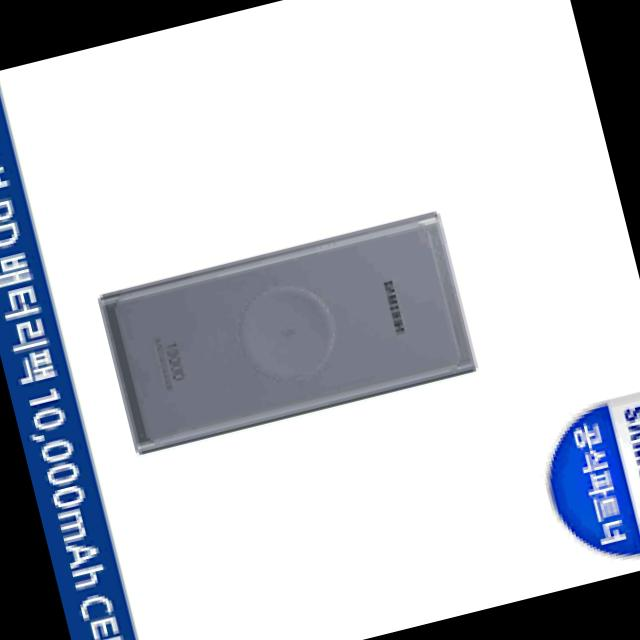power_bank: (90, 206, 480, 459)
